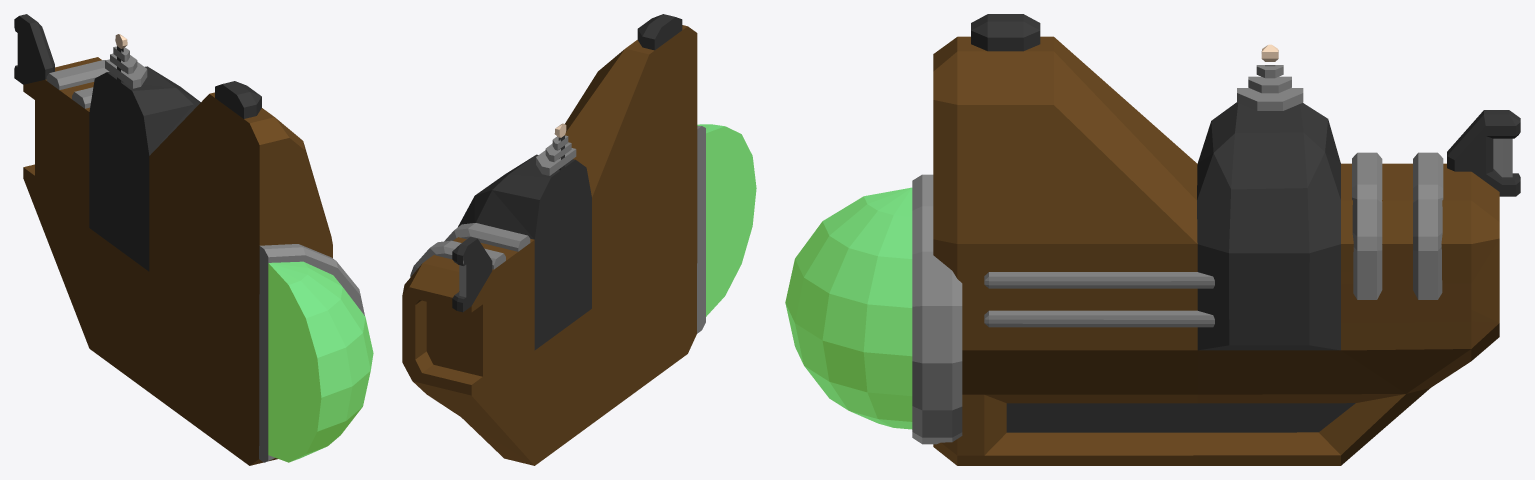
Rendered from SubmarineCoupe.fbx.
The picture shows the model from 3 angles, left to right: view 1: azimuth 30°, elevation 25°; view 2: azimuth 150°, elevation 25°; view 3: azimuth 270°, elevation 25°; orthographic projection. The views are drawn at different scales.
Visible parts, largest first — view 1: SubmarineCoupe; view 2: SubmarineCoupe; view 3: SubmarineCoupe.
Boxes of the visible parts, box(x1,y1,x2,y2) form: SubmarineCoupe: box(14, 14, 373, 465); SubmarineCoupe: box(402, 14, 756, 465); SubmarineCoupe: box(785, 14, 1520, 465).
Bounding box in the file's own units: 507 × 1689 × 2598.
